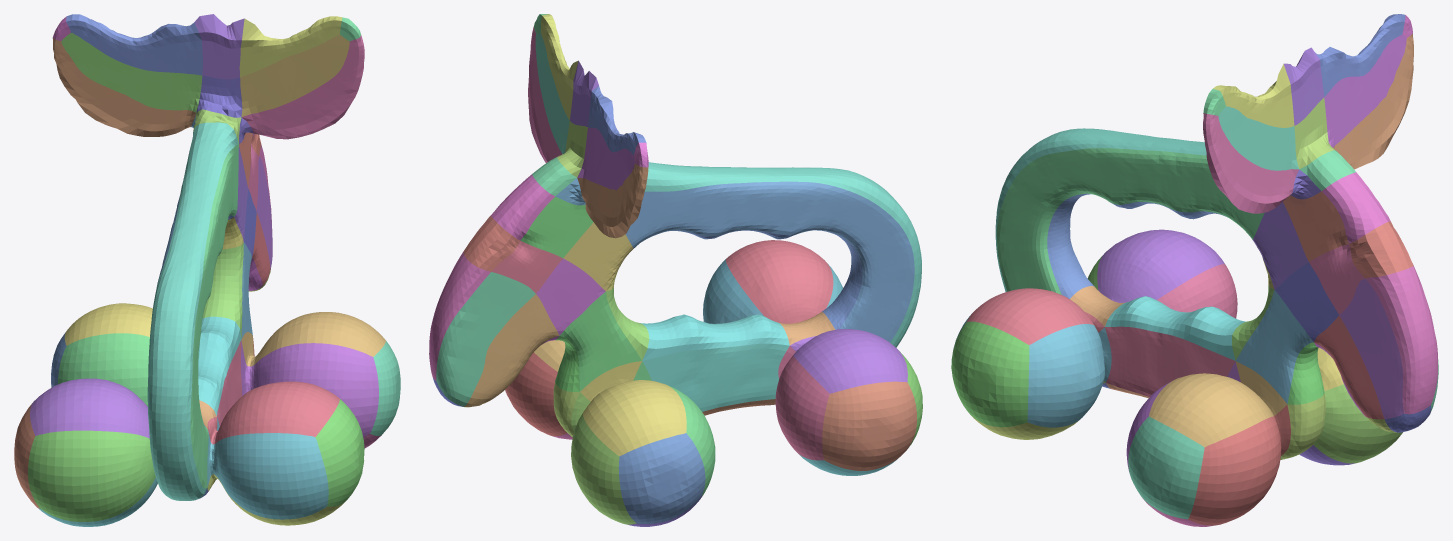
Rendered from 12_elk_output.obj.
The picture shows the model from 3 angles, left to right: view 1: azimuth 30°, elevation 25°; view 2: azimuth 150°, elevation 25°; view 3: azimuth 270°, elevation 25°; orthographic projection. The views are drawn at different scales.
Size of the model in its own units: 149 by 158 by 156.
